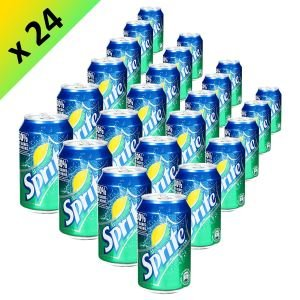sprite: (142, 226, 184, 279), (143, 226, 184, 279), (23, 147, 58, 199), (62, 174, 98, 224), (24, 147, 58, 199), (102, 200, 136, 252), (190, 191, 216, 232), (190, 191, 215, 232), (112, 137, 135, 167), (151, 166, 176, 192), (73, 110, 96, 137), (181, 134, 201, 162), (102, 82, 122, 109), (142, 108, 161, 135), (221, 161, 239, 189), (245, 139, 255, 155)
